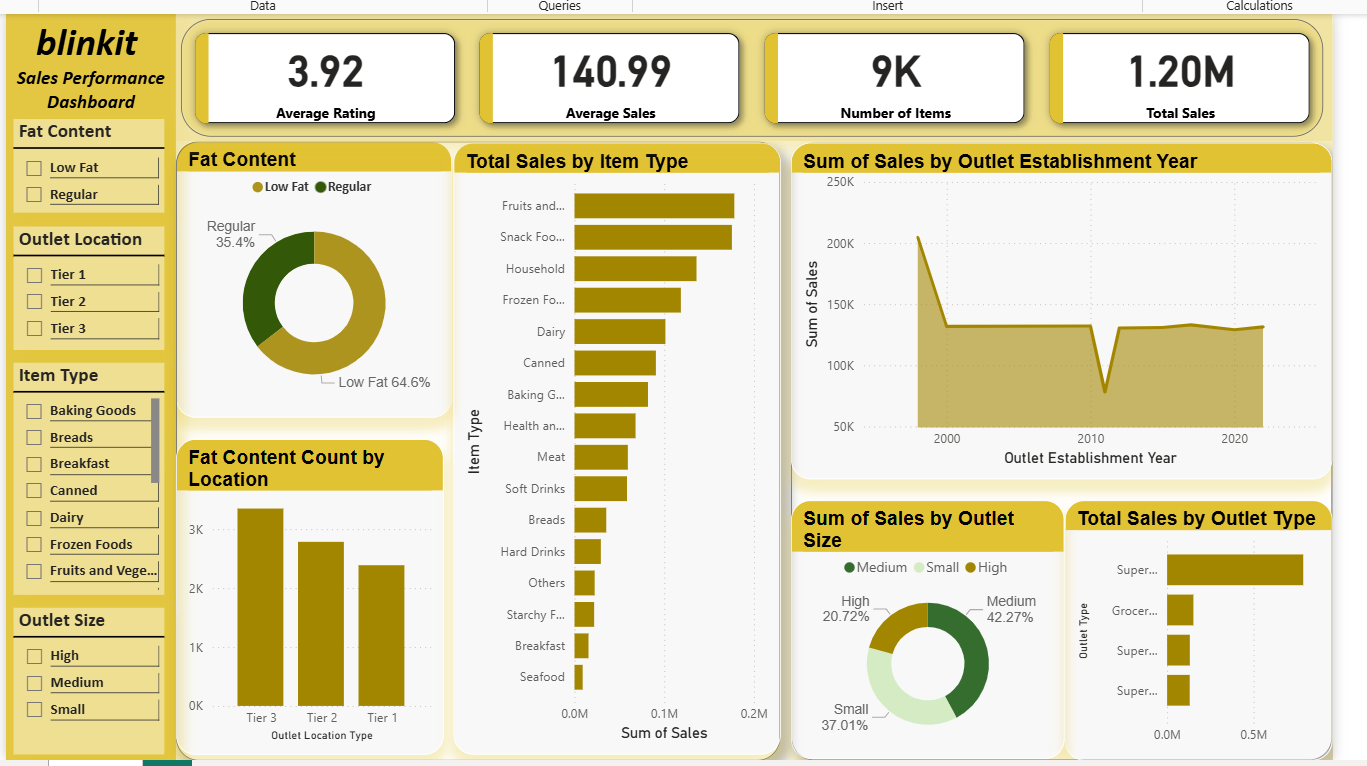

Layout of this report page (visuals, bound fields, positions):
{"tool":"powerbi","page":{"name":"Page 1","canvas":[1280,720],"ordinal":0},"visuals":[{"type":"textbox","box":[0,0,164.1,720.2],"z":0},{"type":"pieChart","title":"Sales by Fat Content","fields":{"Category":["Blinkit_Cleaned.Item Fat Content"],"Y":["Sum(Blinkit_Cleaned.Sales)"]},"box":[164.5,124.1,266.9,285.7],"z":1000},{"type":"slicer","title":"Fat Content","fields":{"Values":["Blinkit_Cleaned.Item Fat Content"]},"box":[7.2,101.3,146,90.5],"z":2000},{"type":"slicer","title":"Outlet Location","fields":{"Values":["Blinkit_Cleaned.Outlet Location Type"]},"box":[7.2,205.1,146,119.4],"z":3000},{"type":"slicer","title":"Item Type","fields":{"Values":["Blinkit_Cleaned.Item Type"]},"box":[7.2,336.6,146,224.4],"z":4000},{"type":"clusteredBarChart","title":"Total Sales by Item Type","fields":{"Category":["Blinkit_Cleaned.Item Type"],"Y":["Sum(Blinkit_Cleaned.Sales)"]},"box":[432.8,121.2,311.6,593],"z":5000},{"type":"columnChart","title":"Fat Content by Location","fields":{"Category":["Blinkit_Cleaned.Outlet Location Type"],"Y":["CountNonNull(Blinkit_Cleaned.Item Fat Content)"]},"box":[164.5,409.7,268.4,304.4],"z":6000},{"type":"columnChart","title":"Total Sales by Outlet Type","fields":{"Category":["Blinkit_Cleaned.Outlet Type"],"Y":["Sum(Blinkit_Cleaned.Sales)"]},"box":[1021.5,409.7,258.3,304.4],"z":8000},{"type":"cardVisual","fields":{"Data":["Blinkit_Cleaned.Average Rating","Blinkit_Cleaned.Average Sales","Blinkit_Cleaned.Number of Items","Blinkit_Cleaned.Total Sales"]},"box":[164.1,0,1116,123.1],"z":9000},{"type":"donutChart","title":"Sales by Outlet Size","fields":{"Category":["Blinkit_Cleaned.Outlet Size"],"Y":["Sum(Blinkit_Cleaned.Sales)"]},"box":[757.4,409.7,264,304.4],"z":10000},{"type":"areaChart","title":"Sales by Establishment Year","fields":{"Category":["Blinkit_Cleaned.Outlet Establishment Year"],"Y":["Sum(Blinkit_Cleaned.Sales)"]},"box":[757.4,124.1,522.3,285.7],"z":11000},{"type":"slicer","title":"Outlet Size","fields":{"Values":["Blinkit_Cleaned.Outlet Size"]},"box":[7.2,572.8,145.7,141.4],"z":12000}]}

Visuals, with their boxes on the page's 1280x720 design canvas (x1, y1, x2, y2). These are canvas units, not pixel positions in the 1367x766 screenshot, which may show the page scaled, cropped or inside an application window:
textbox: box(0, 0, 164, 720)
"Sales by Fat Content" pieChart: box(164, 124, 431, 410)
"Fat Content" slicer: box(7, 101, 153, 192)
"Outlet Location" slicer: box(7, 205, 153, 324)
"Item Type" slicer: box(7, 337, 153, 561)
"Total Sales by Item Type" clusteredBarChart: box(433, 121, 744, 714)
"Fat Content by Location" columnChart: box(164, 410, 433, 714)
"Total Sales by Outlet Type" columnChart: box(1022, 410, 1280, 714)
cardVisual - Blinkit_Cleaned.Average Rating x Blinkit_Cleaned.Average Sales: box(164, 0, 1280, 123)
"Sales by Outlet Size" donutChart: box(757, 410, 1021, 714)
"Sales by Establishment Year" areaChart: box(757, 124, 1280, 410)
"Outlet Size" slicer: box(7, 573, 153, 714)
